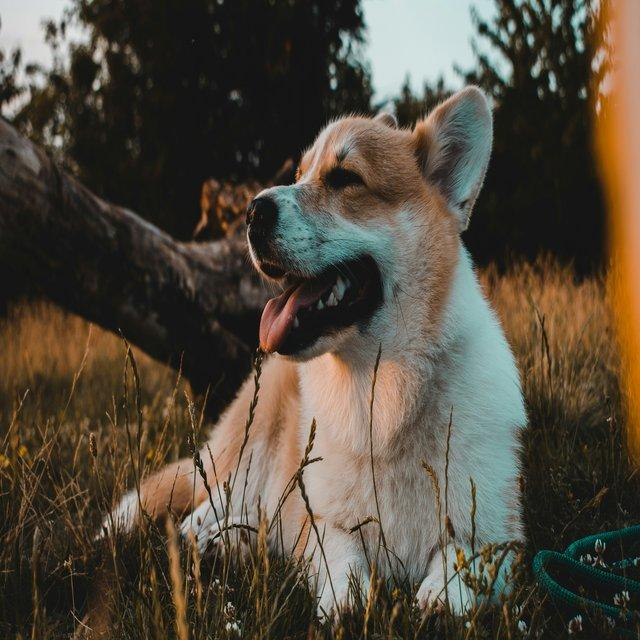corgi: (91, 83, 530, 633)
